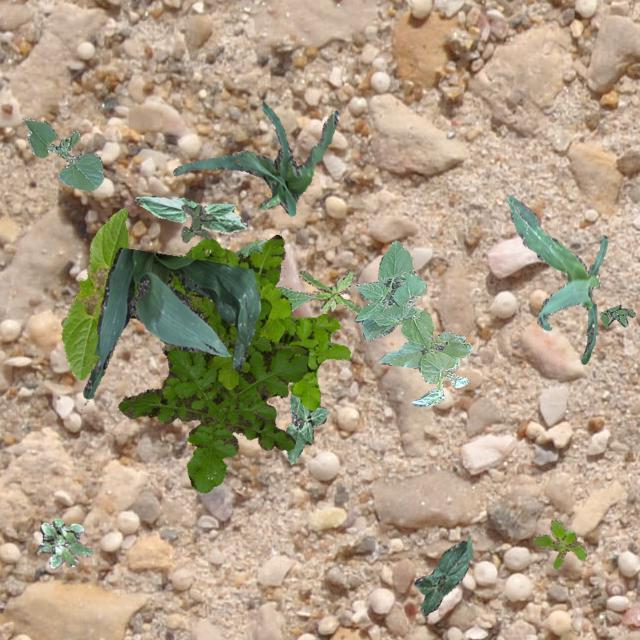crop: (83, 247, 260, 398), (354, 240, 471, 404), (172, 100, 338, 214), (506, 194, 606, 364), (60, 206, 130, 378), (232, 238, 314, 310), (23, 116, 102, 190), (412, 538, 472, 614), (134, 195, 245, 232), (286, 394, 328, 464)
weed: (133, 233, 350, 410), (118, 294, 308, 492), (36, 516, 92, 568), (298, 268, 360, 314), (532, 518, 586, 568), (180, 204, 212, 242), (600, 304, 634, 326)
